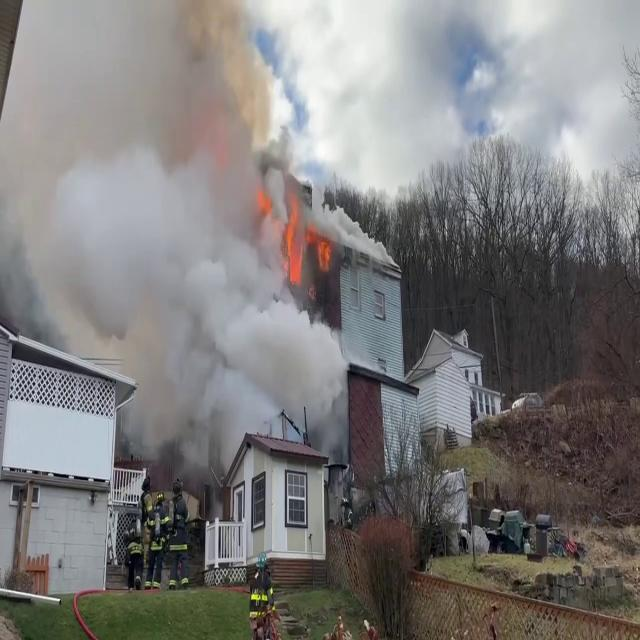Fire: (280, 196, 336, 286)
Smoke: (1, 0, 347, 474)
